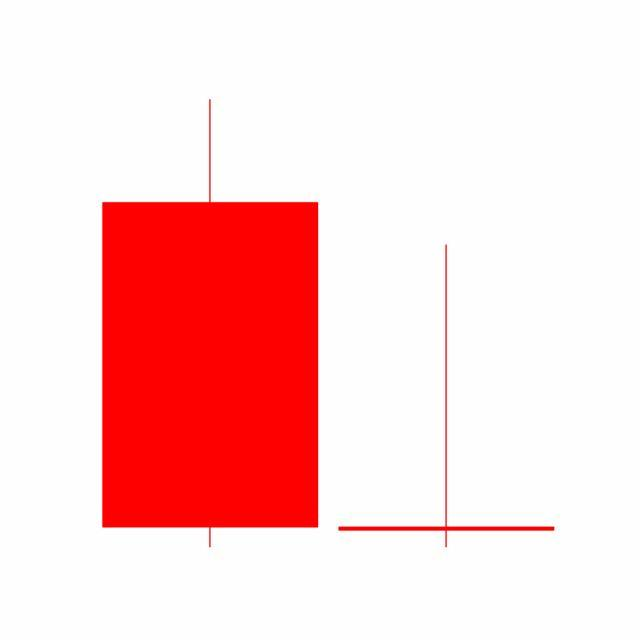Spinning Top: (328, 241, 566, 551)
